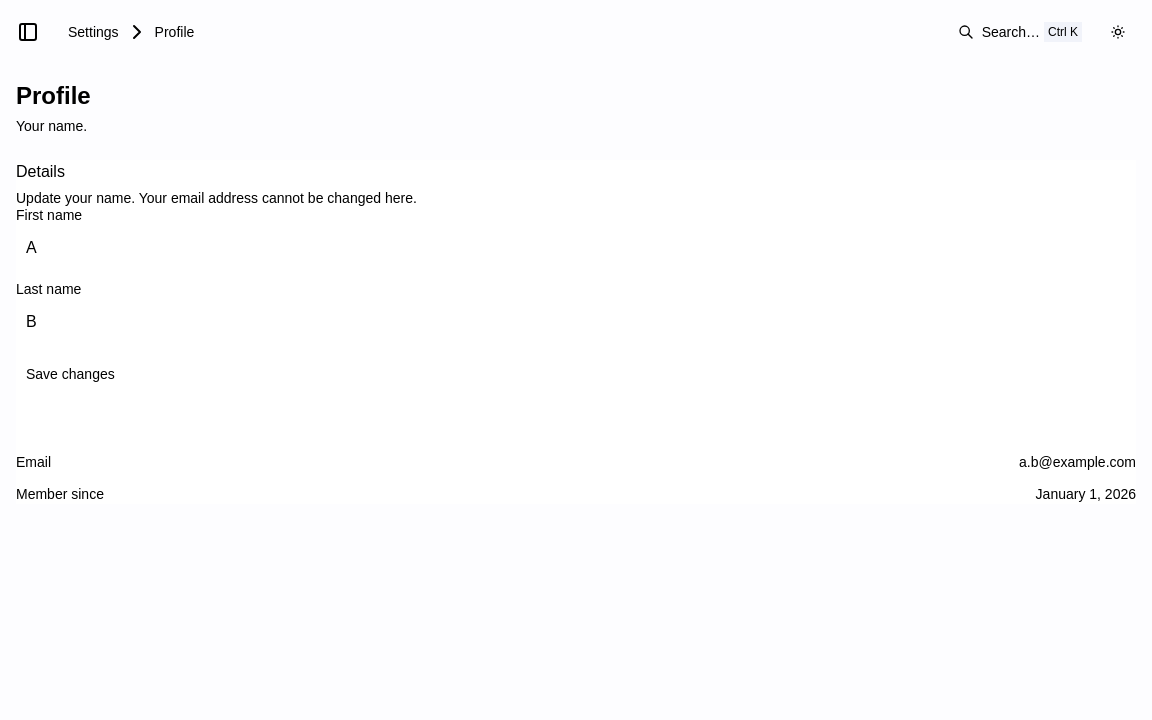
Test case: profile page › asks for a change, and sends nothing, when Save is pressed with no changes
Click the button "Save changes" at (70, 374), box x1=16 y1=356 x2=125 y2=392
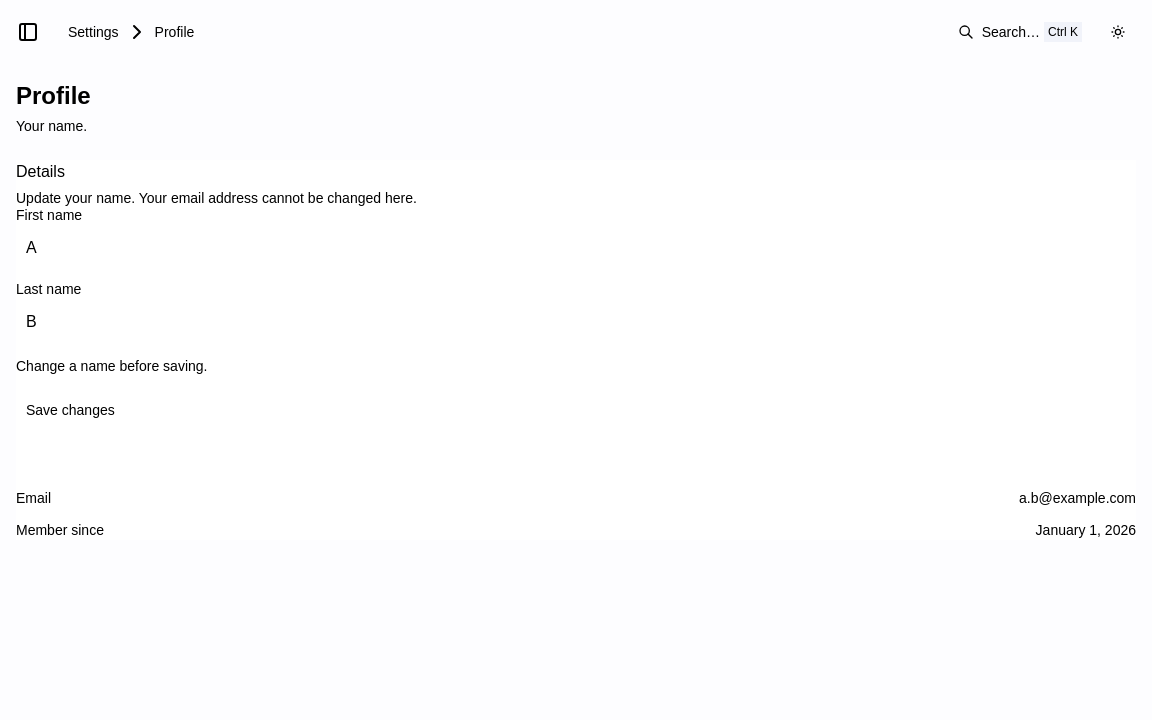
Check: the message reads "Change a name before saving.", box x1=16 y1=358 x2=208 y2=374
Type "b" into the field labelled "First name" at (576, 248), box x1=16 y1=230 x2=1136 y2=266
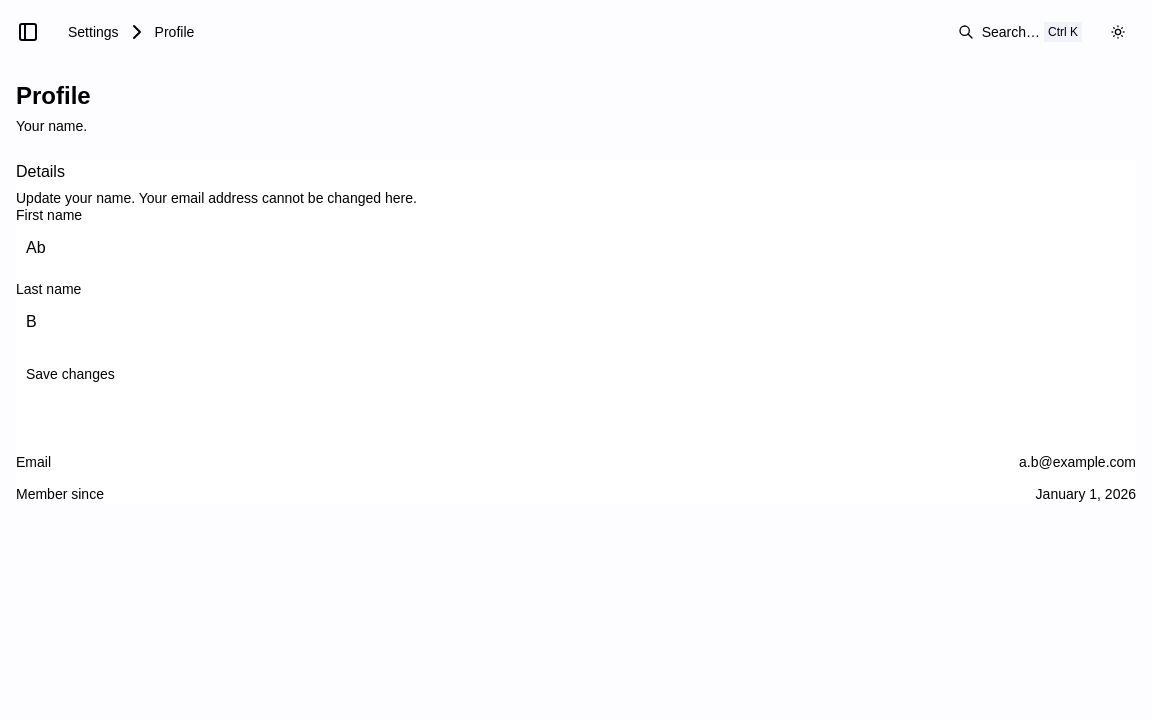
Check: the text "Change a name before saving." is gone
